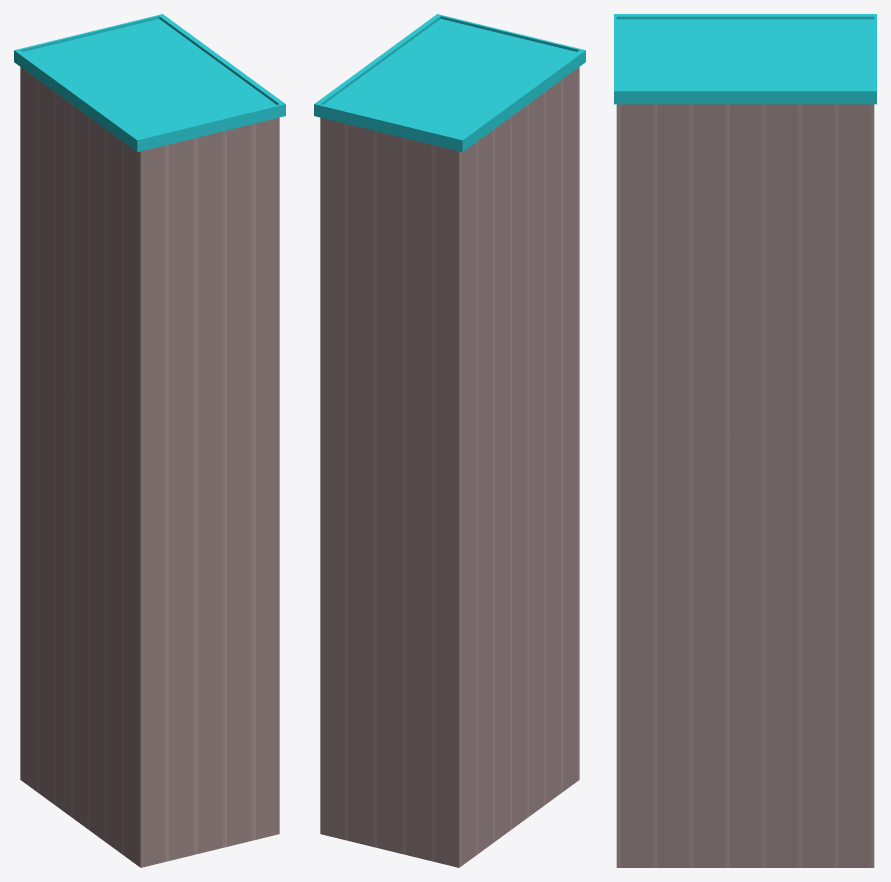
The model's file is Building 13 .fbx.
3 views of the same model, side by side, from view 1: azimuth 30°, elevation 25°; view 2: azimuth 150°, elevation 25°; view 3: azimuth 270°, elevation 25° (orthographic). The views are drawn at different scales.
Visible parts, largest first — view 1: Building 13; view 2: Building 13; view 3: Building 13.
Part boxes in pixels (<box>): Building 13: <box>14,14,285,867</box>; Building 13: <box>314,14,585,867</box>; Building 13: <box>614,14,876,867</box>.
Size of the model in its own units: 2140 by 10037 by 3069.
